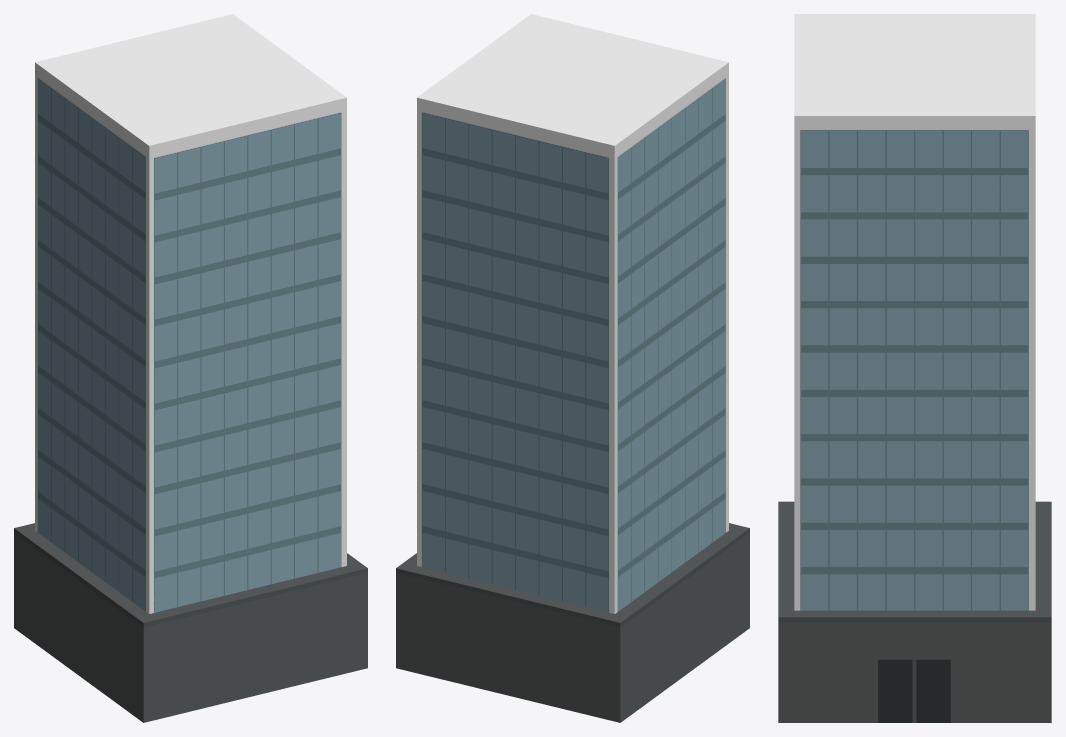
The model's file is StandaardOffice.fbx.
The picture shows the model from 3 angles, left to right: view 1: azimuth 30°, elevation 25°; view 2: azimuth 150°, elevation 25°; view 3: azimuth 270°, elevation 25°; orthographic projection. The views are drawn at different scales.
Parts seen in each view (by area): view 1: StandaardOffice; view 2: StandaardOffice; view 3: StandaardOffice.
Boxes of the visible parts, x1,y1,x2,y2 form: StandaardOffice: (14, 14, 367, 722); StandaardOffice: (396, 14, 749, 722); StandaardOffice: (778, 14, 1051, 722).
Size of the model in its own units: 99.18 by 240 by 99.18.
Materials: 1 (1 with a texture image).
